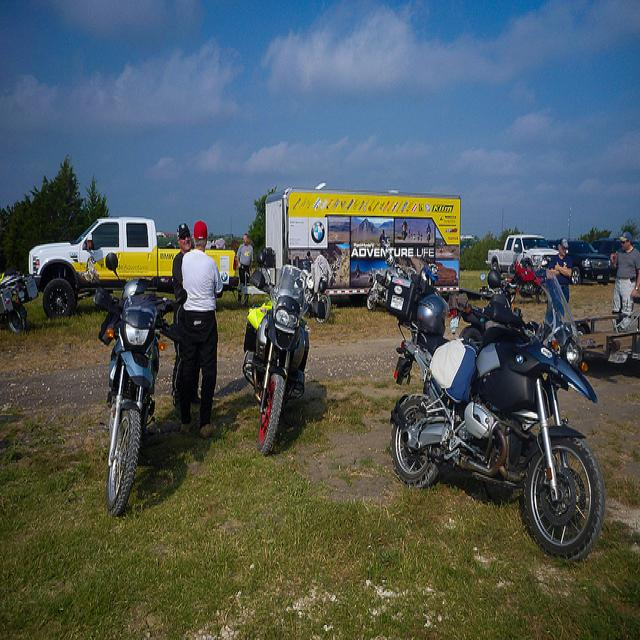motor: (389, 271, 606, 568), (102, 266, 182, 521), (242, 245, 315, 457), (449, 270, 528, 340), (366, 254, 438, 311), (0, 271, 40, 333), (504, 251, 548, 304)
